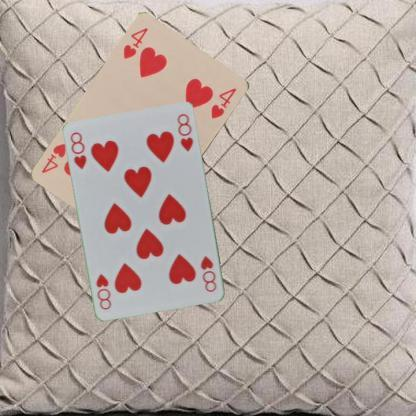4h: (120, 25, 150, 60)
8h: (198, 254, 219, 294), (68, 130, 88, 170)
